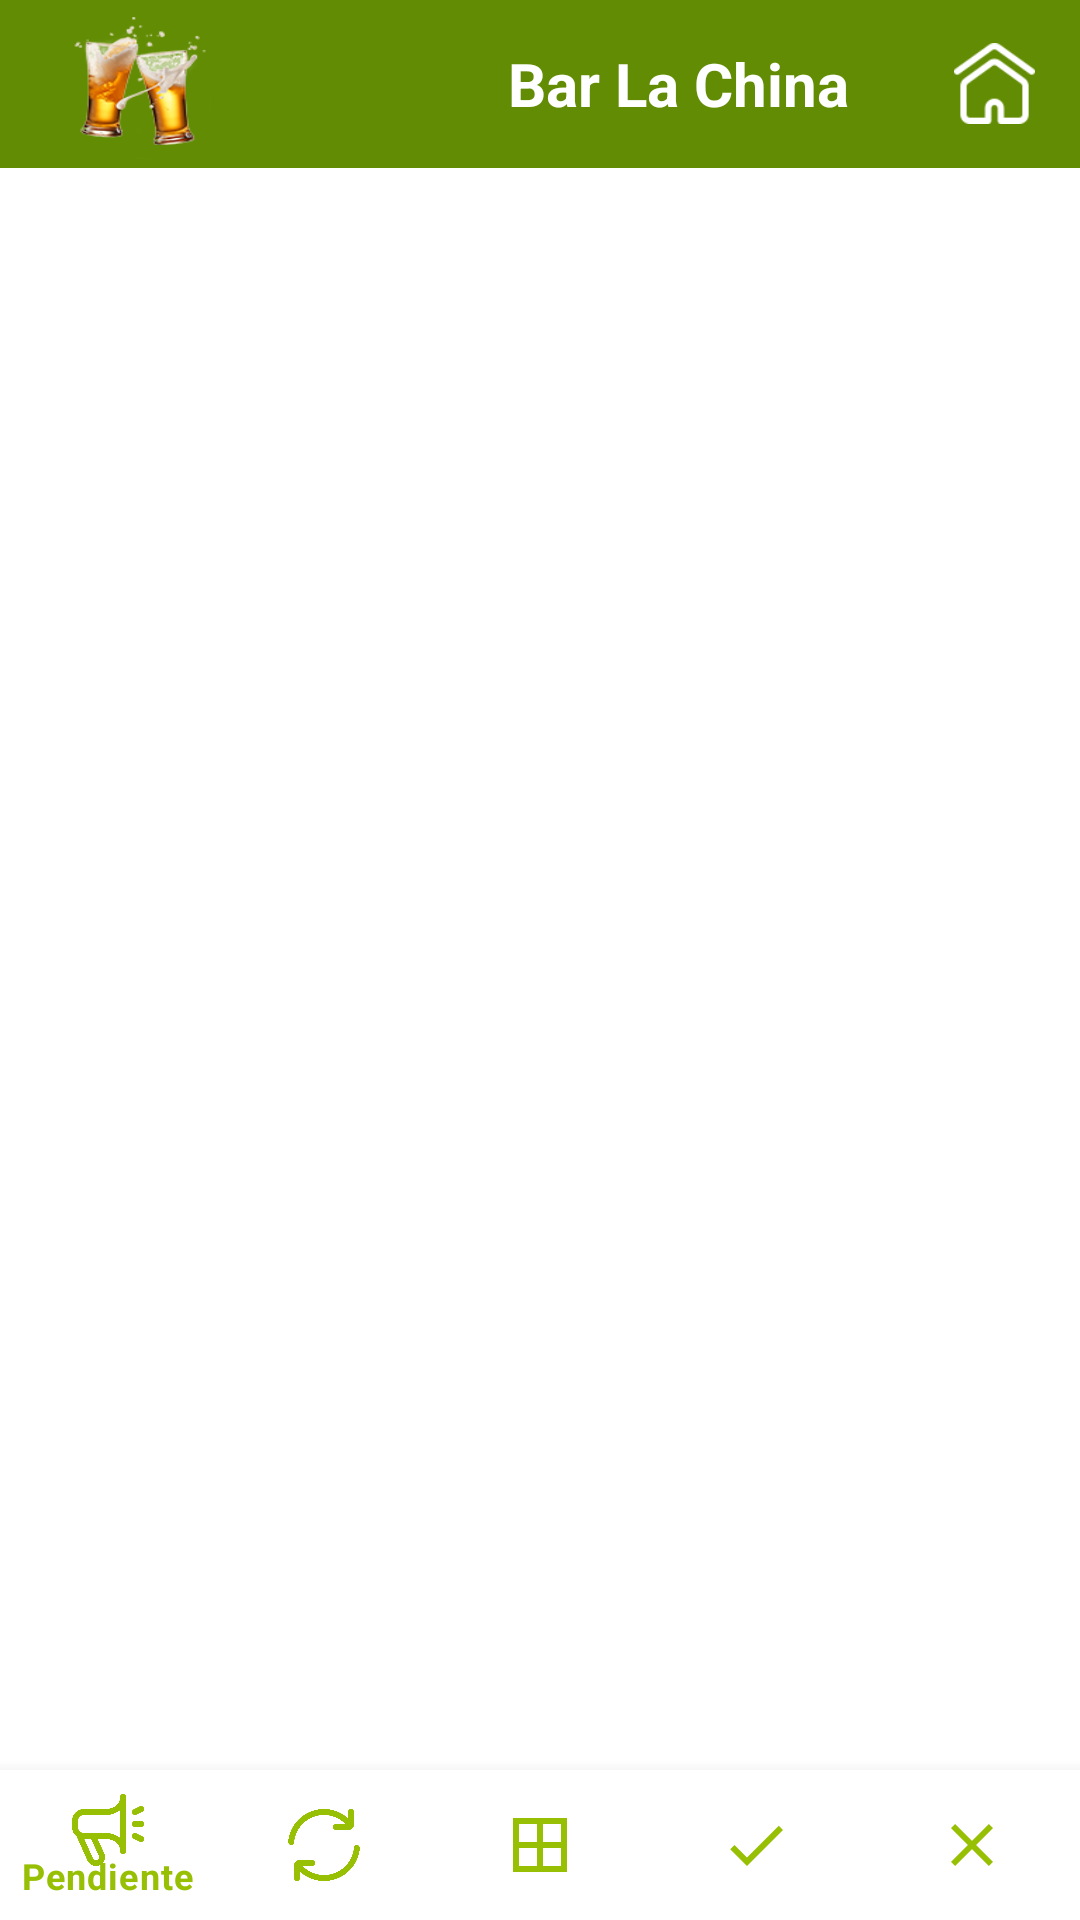

Where icons sit on this 1080w x 1920h app screen, as (x1, y1, x2, y2):
home: (954, 43, 1035, 124)
